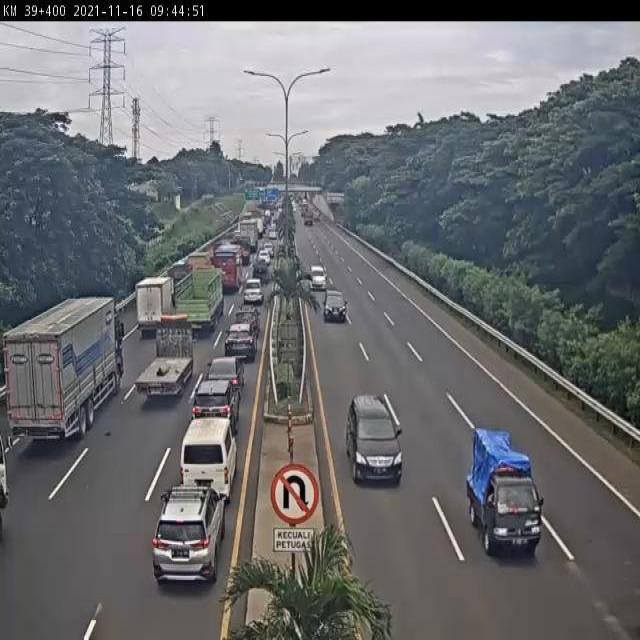big bus: (207, 247, 244, 296)
car: (150, 490, 222, 586), (348, 396, 405, 489), (183, 419, 238, 500), (188, 382, 236, 447), (205, 355, 246, 396), (223, 327, 255, 365), (236, 302, 263, 334), (323, 286, 345, 322), (241, 276, 266, 304)
small truck: (464, 425, 545, 560)
truck-l-: (0, 292, 126, 451), (171, 265, 226, 339)
truck-m-: (133, 328, 196, 403), (134, 276, 173, 339), (182, 253, 211, 296)
